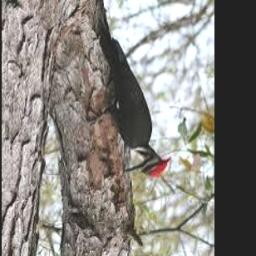Woodpecker: (86, 0, 171, 178)
